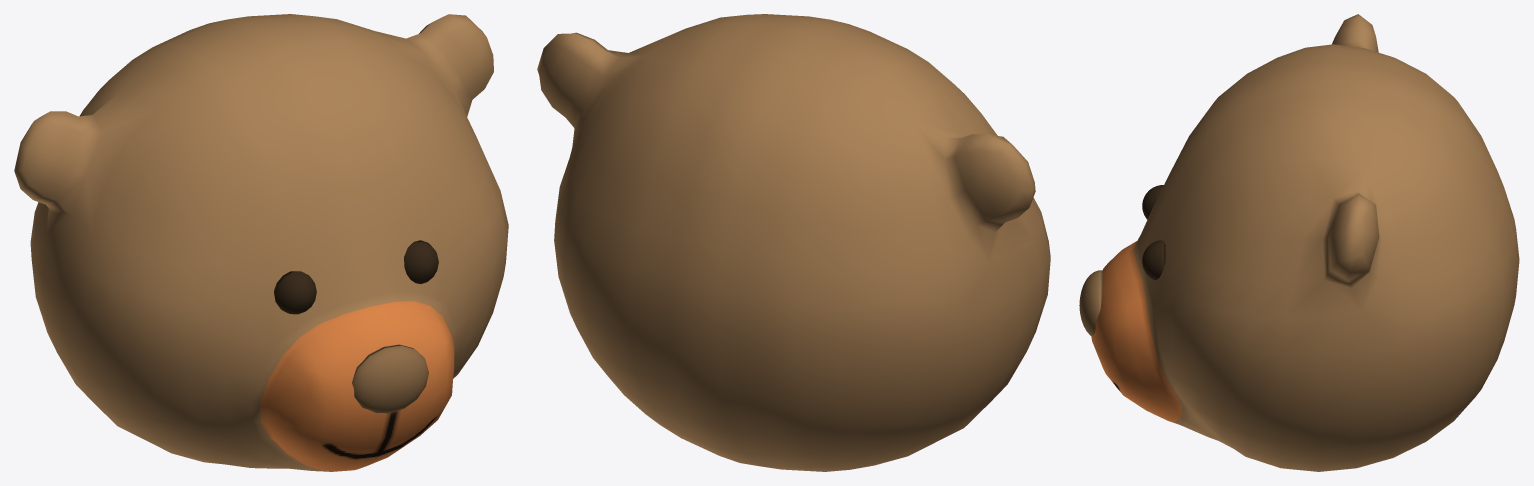
Rendered from Frinchfry_head.fbx.
3 renders of one model, left to right at view 1: azimuth 30°, elevation 25°; view 2: azimuth 150°, elevation 25°; view 3: azimuth 270°, elevation 25°, orthographic. The views are drawn at different scales.
Visible parts, largest first — view 1: Head; view 2: Head; view 3: Head.
Boxes of the visible parts, box(x1,y1,x2,y2) form: Head: box(14, 14, 508, 471); Head: box(537, 14, 1050, 471); Head: box(1079, 14, 1519, 471).
Bounding box in the file's own units: 120 × 97.97 × 103.
